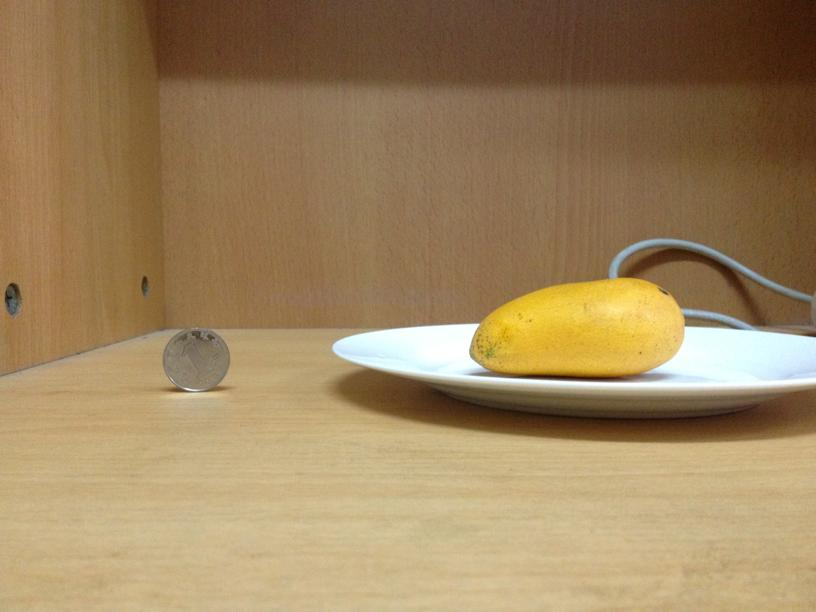coin: (160, 325, 229, 392)
mango: (467, 279, 684, 378)
